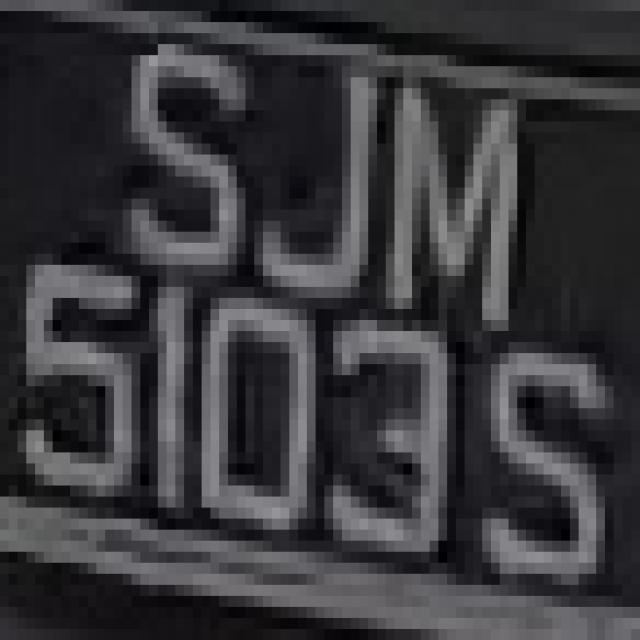0: (211, 243, 333, 563)
1: (132, 242, 202, 518)
3: (325, 243, 447, 563)
5: (26, 232, 140, 496)
J: (254, 11, 395, 309)
M: (377, 44, 535, 320)
S: (473, 298, 622, 596), (114, 22, 263, 276)
